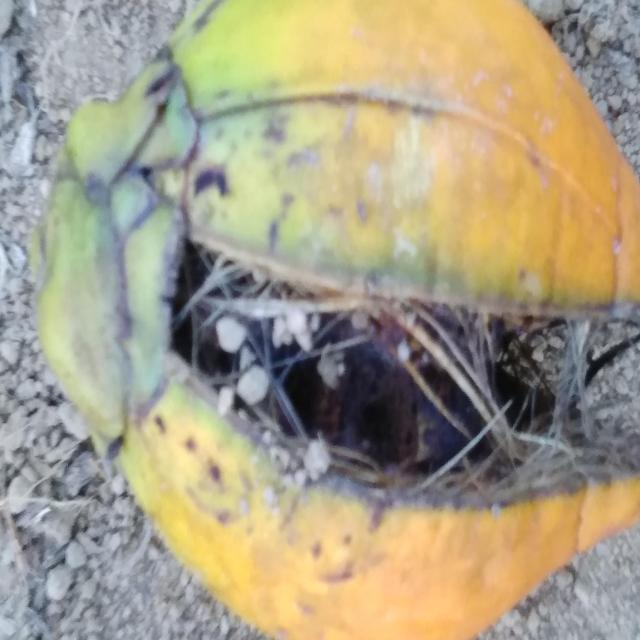damaged: (30, 0, 640, 640)
